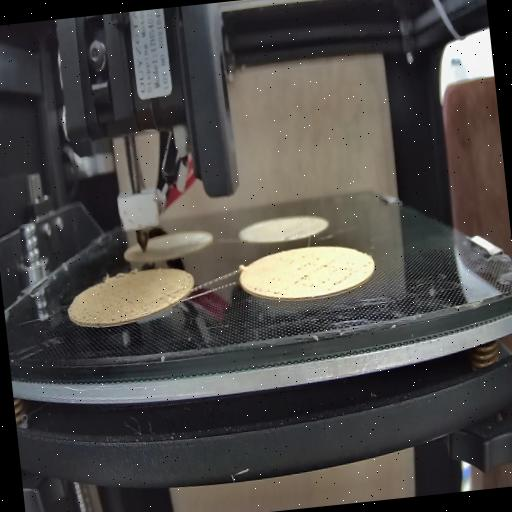under_extrusion: (291, 246, 371, 290), (80, 288, 138, 326), (250, 281, 284, 303), (146, 290, 184, 308)
